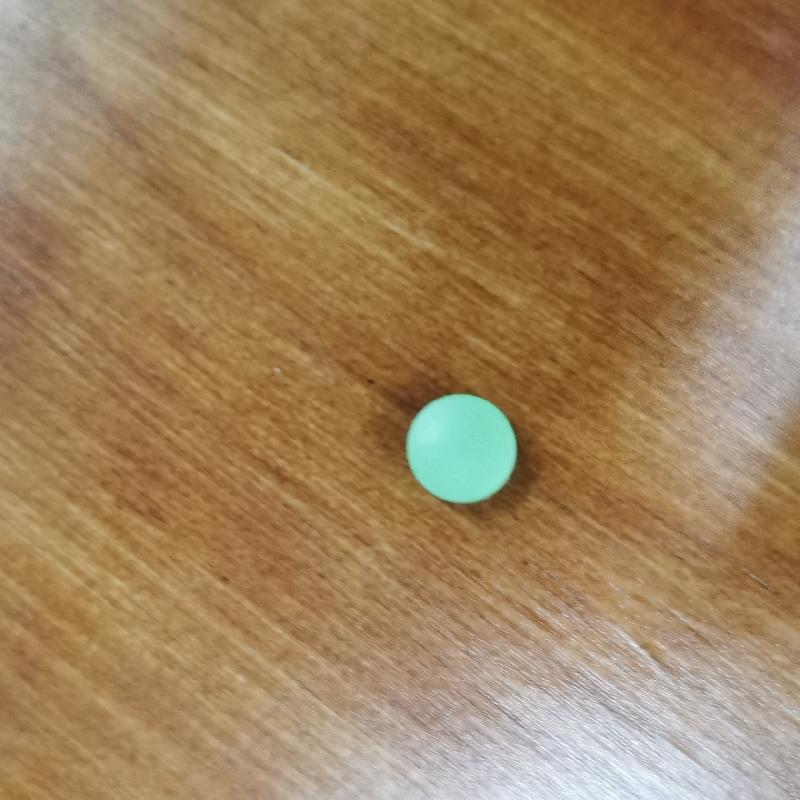pills: (393, 386, 539, 533)
